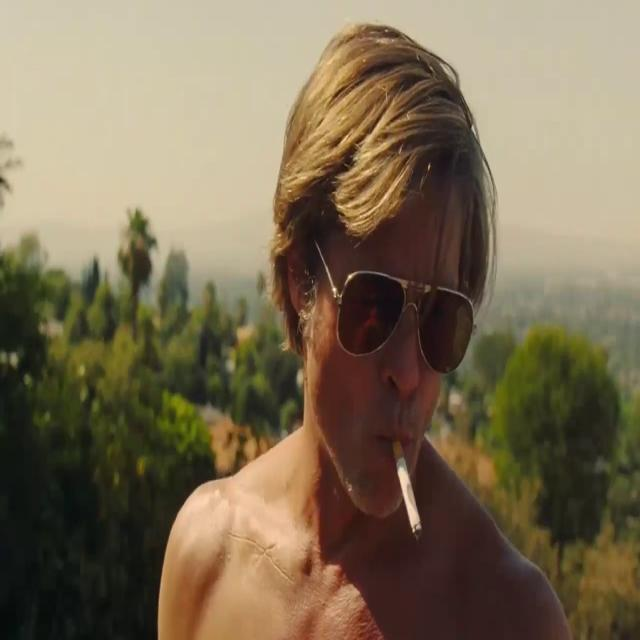Smooking: (389, 432, 429, 548)
